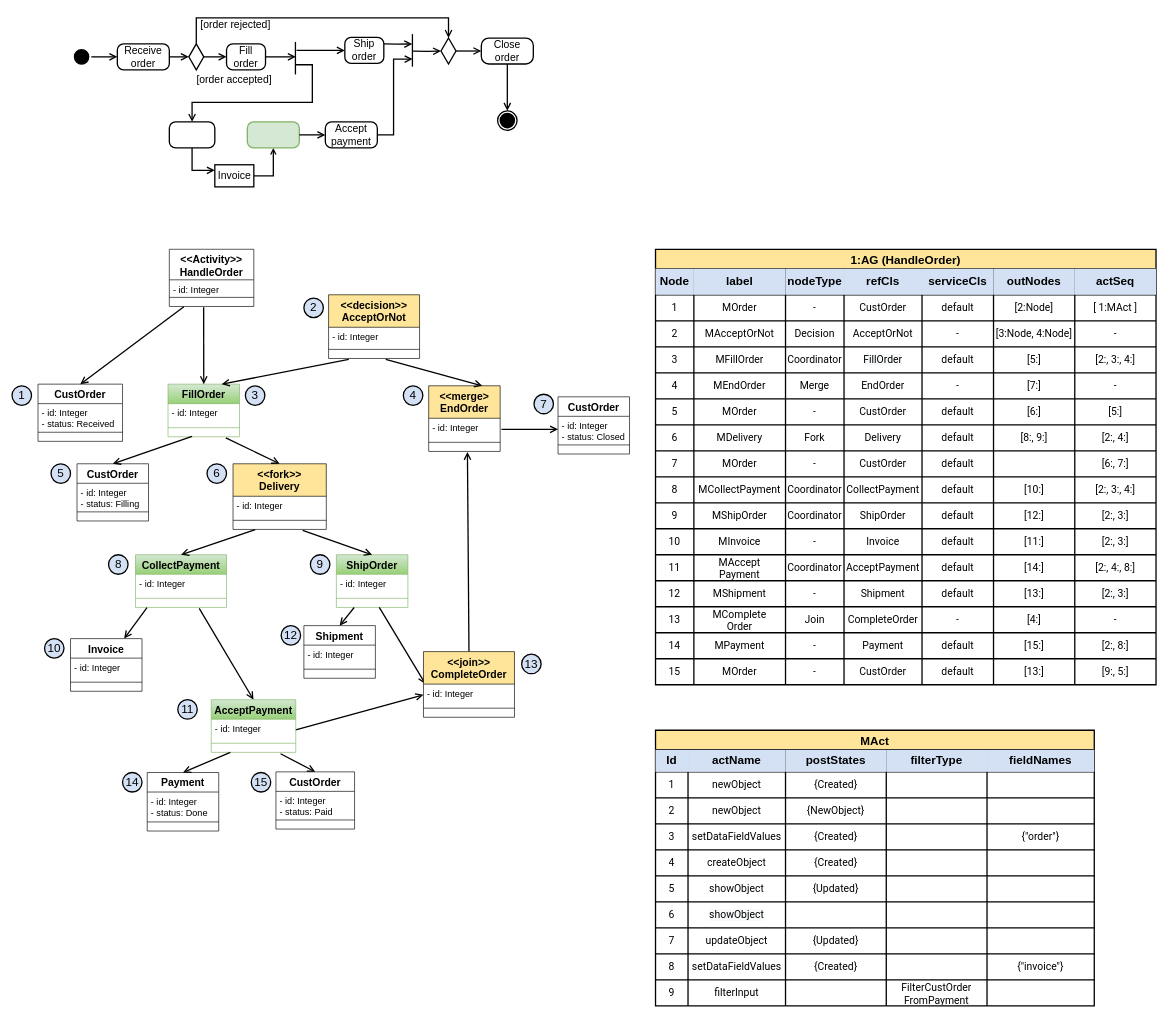
Some shapes in this 1167 by 1017 pixel diagram are drawn without their labels. The shapes that lost their labels are listed below. From the top down, each one's centre as x and y in pixels, then its label:
(x=191, y=134): Send invoice
(x=273, y=134): Make payment
